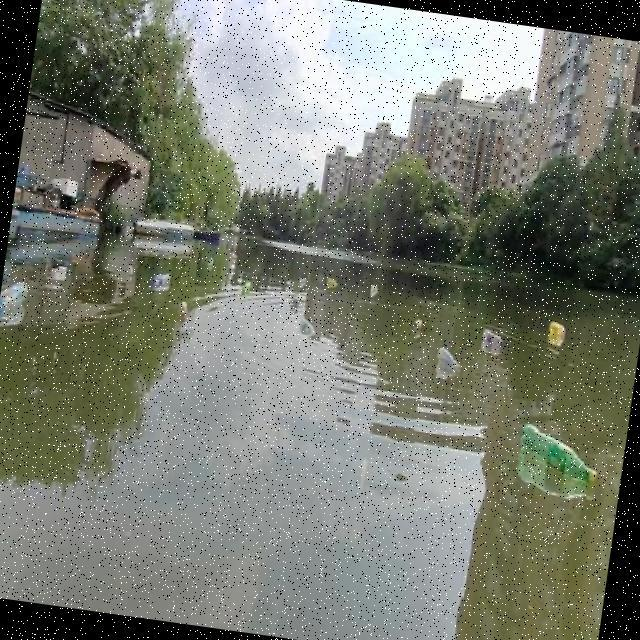Bottle: (509, 415, 606, 493)
